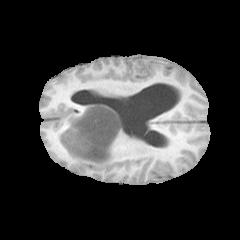glioma: (57, 104, 135, 168)
